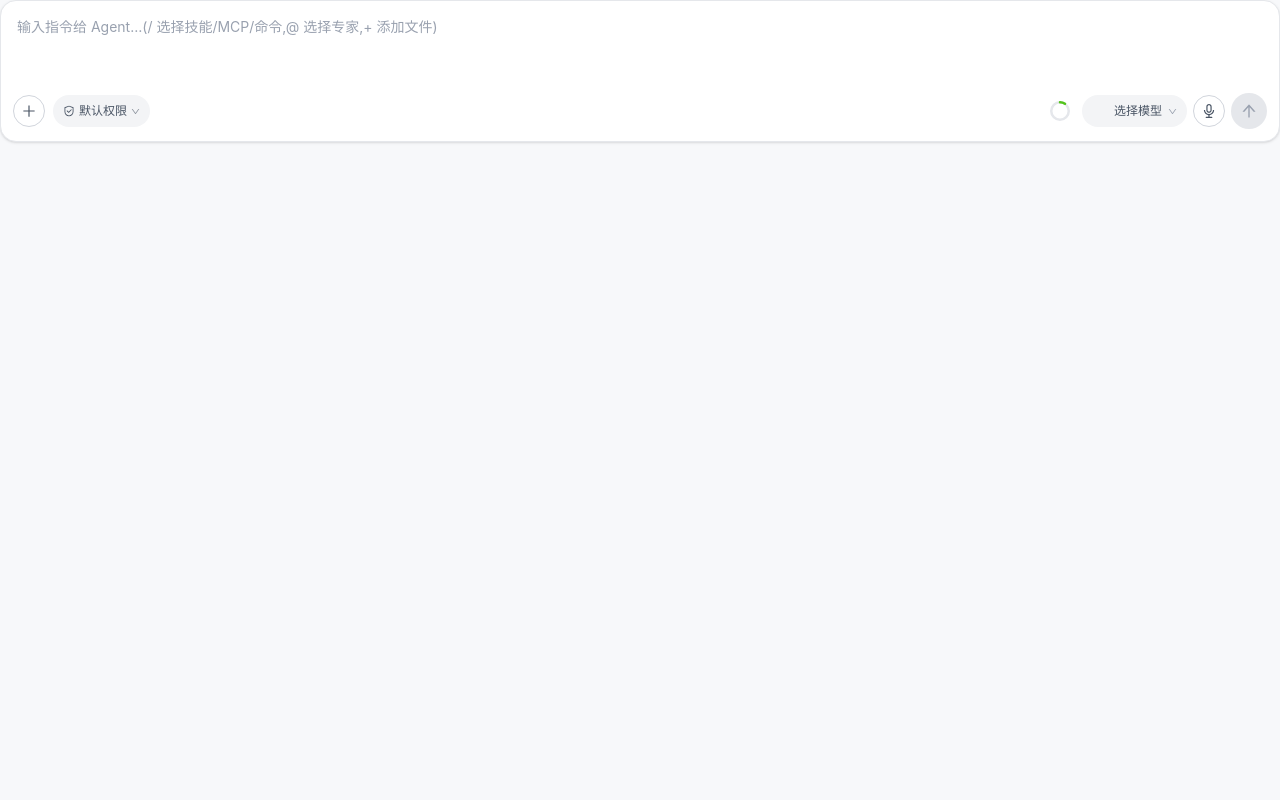
it: AgentWorkspaceInput › 点击上下文空间环形图打开详情抽屉
Click the picture named "上下文空间使用率".
click(1060, 111)  # box [1050,101,1070,121]
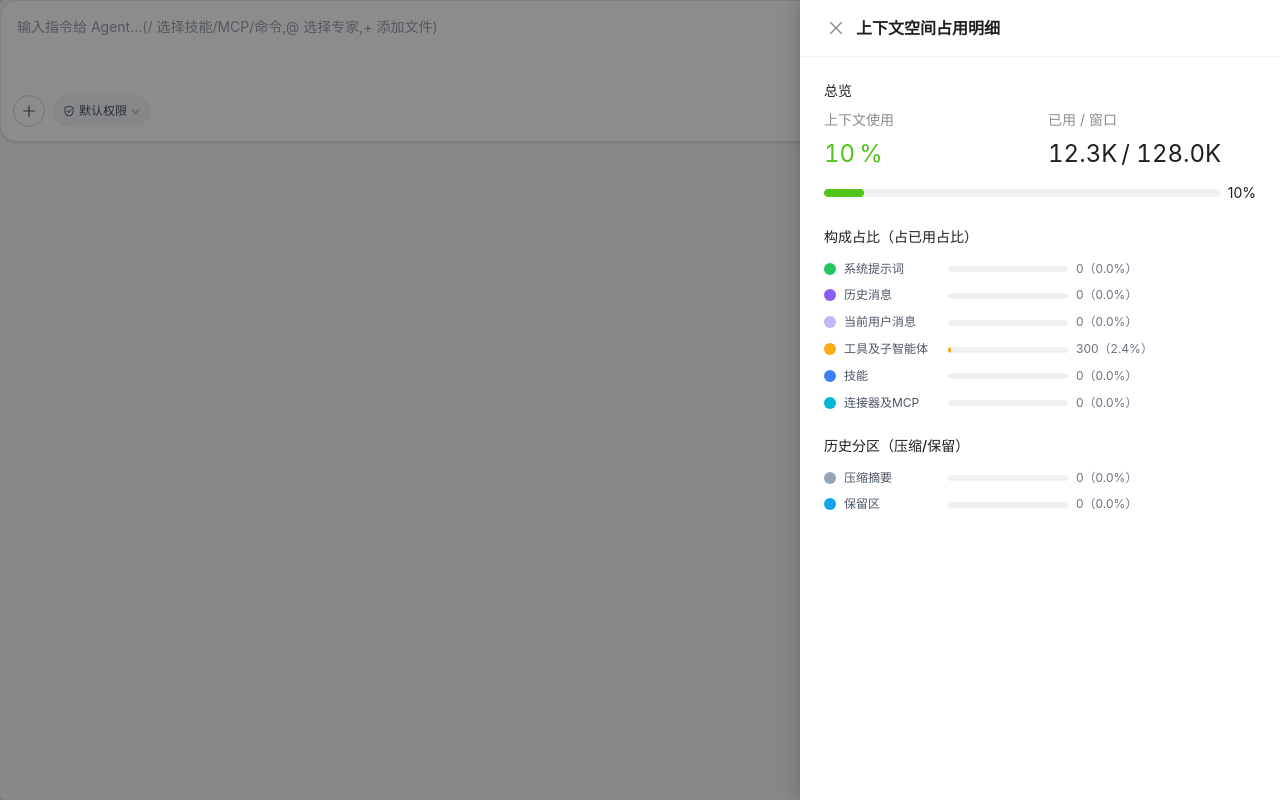
Now the text "上下文空间占用明细" is shown, box [856,18,1000,38]
